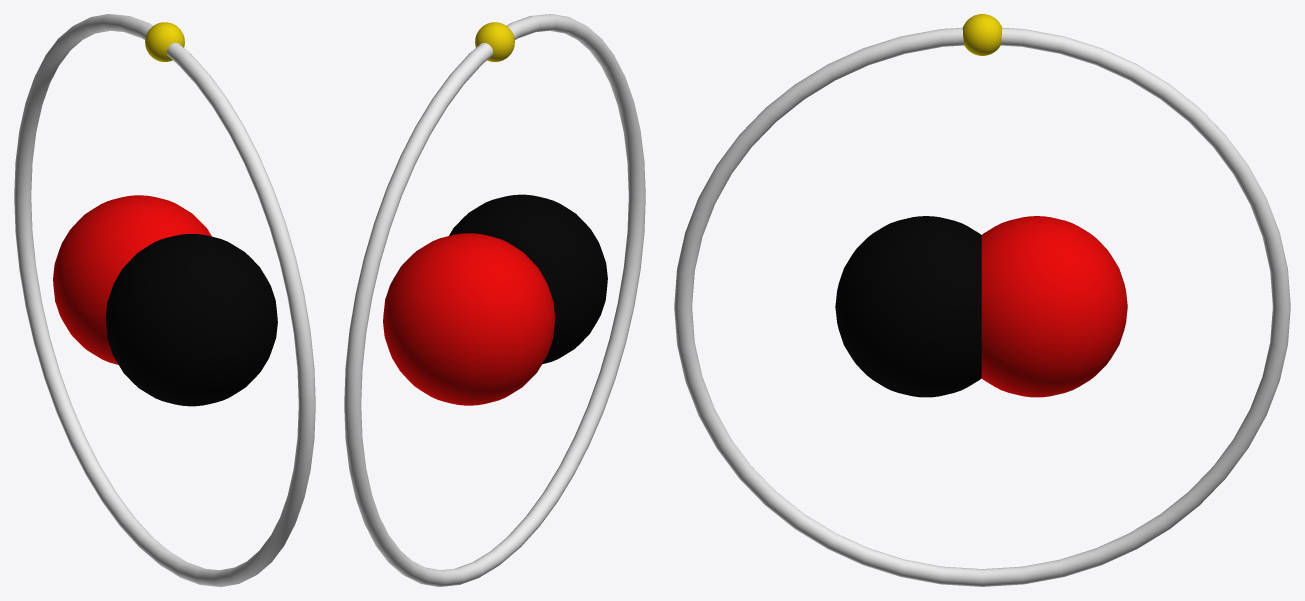
File: Deuterium.fbx
3 renders of one model, left to right at view 1: azimuth 30°, elevation 25°; view 2: azimuth 150°, elevation 25°; view 3: azimuth 270°, elevation 25°, orthographic. The views are drawn at different scales.
Parts seen in each view (by area): view 1: Proton, Orbit, Neutron, Electron; view 2: Neutron, Orbit, Proton, Electron; view 3: Orbit, Neutron, Proton, Electron.
Boxes of the visible parts, x1,y1,x2,y2 form: Proton: (105,234,277,406); Orbit: (14,14,315,586); Neutron: (53,195,211,364); Electron: (145,22,184,61); Neutron: (383,233,555,405); Orbit: (344,14,645,586); Proton: (449,194,607,364); Electron: (475,22,514,61); Orbit: (674,27,1290,586); Neutron: (981,216,1127,397); Proton: (835,216,981,397); Electron: (962,14,1002,55).
Size of the model in its own units: 200 by 693 by 679.
